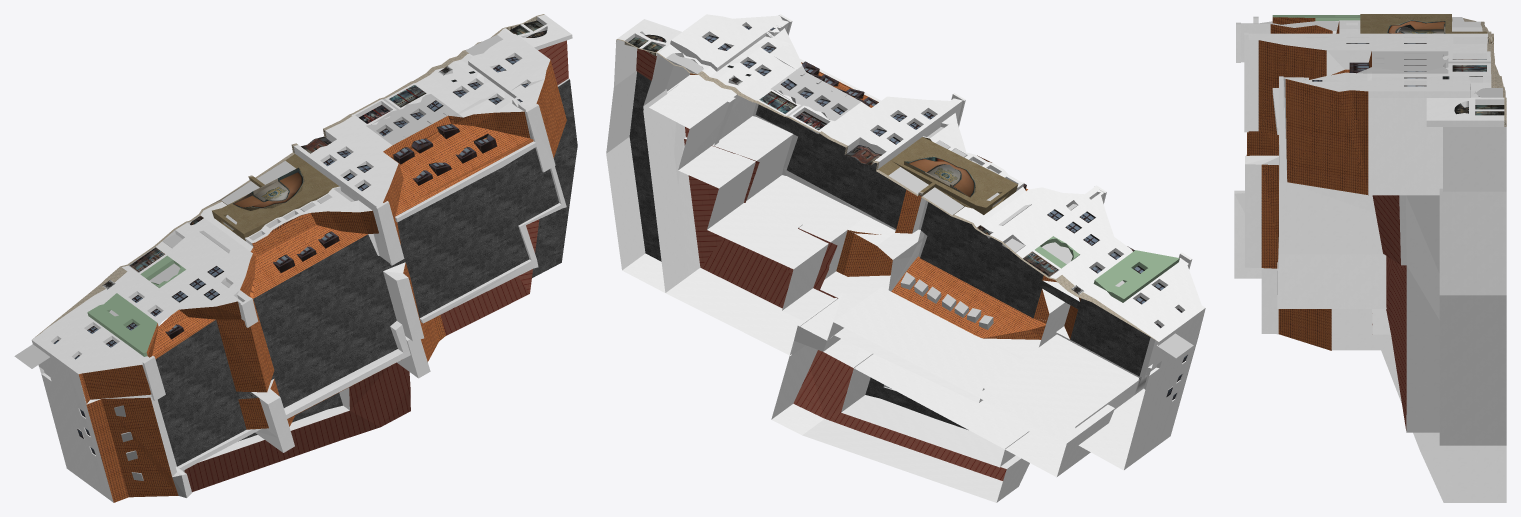
File: Dunkri5_1-origo.obj
3 views of the same model, side by side, from view 1: azimuth 30°, elevation 25°; view 2: azimuth 150°, elevation 25°; view 3: azimuth 270°, elevation 25° (orthographic). The views are drawn at different scales.
Visible parts, largest first — view 1: polySurface30; view 2: polySurface30; view 3: polySurface30.
Part boxes in pixels (x1=…): polySurface30: x1=14, y1=14, x2=577, y2=502; polySurface30: x1=606, y1=14, x2=1205, y2=502; polySurface30: x1=1234, y1=14, x2=1506, y2=502.
Size of the model in its own units: 72 by 46 by 21.39.
